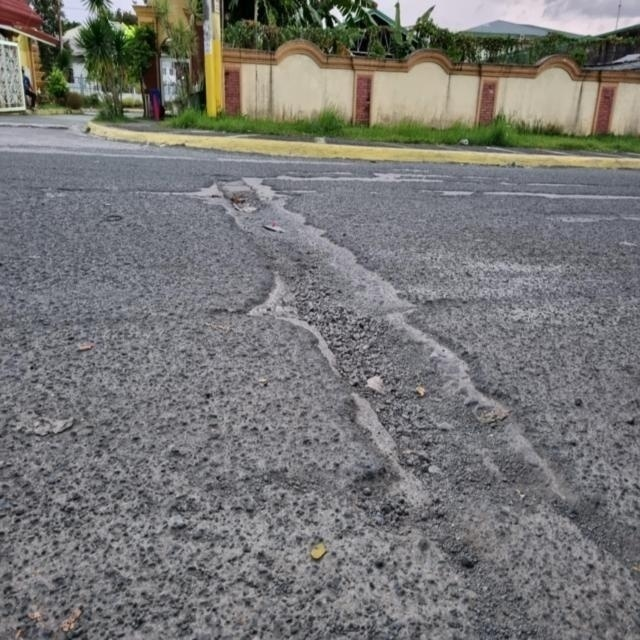pothole: (137, 155, 638, 624)
